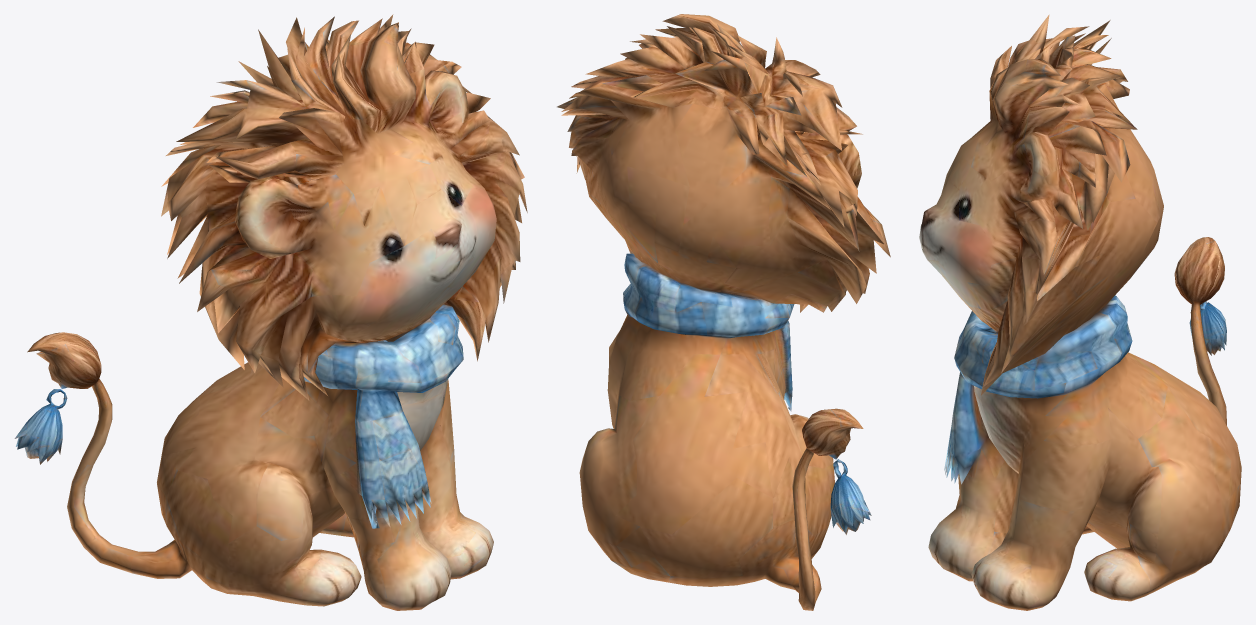
The picture shows the model from 3 angles, left to right: view 1: azimuth 30°, elevation 25°; view 2: azimuth 150°, elevation 25°; view 3: azimuth 270°, elevation 25°; orthographic projection. The views are drawn at different scales.
Size of the model in its own units: 0.7612 by 0.9531 by 0.5317.
Materials: 1 (1 with a texture image).
